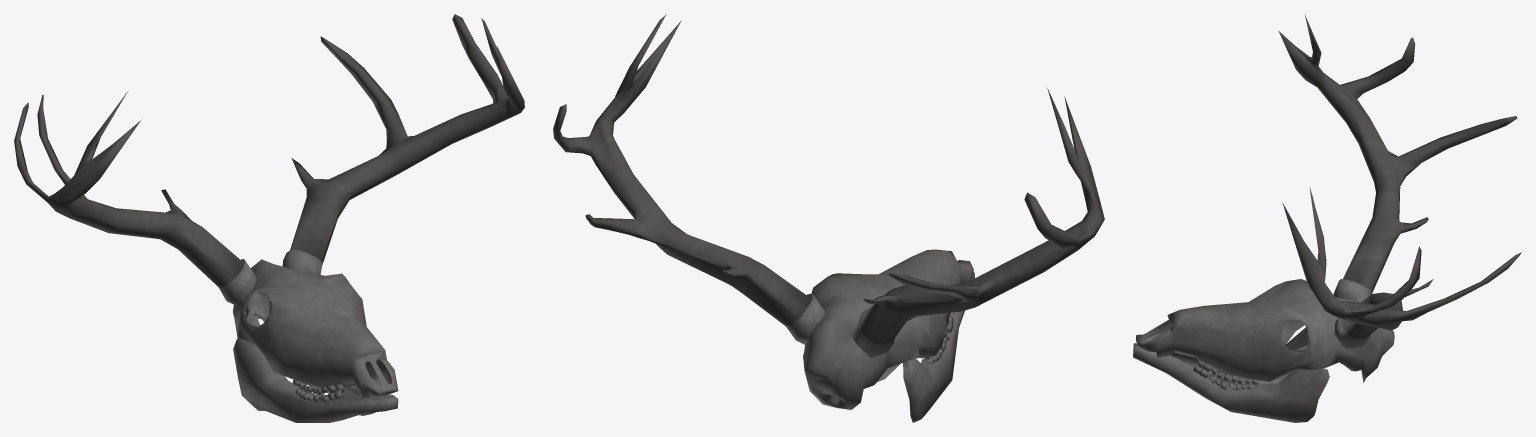
Rendered from WorldItem_DeerSkull.fbx.
3 views of the same model, side by side, from view 1: azimuth 30°, elevation 25°; view 2: azimuth 150°, elevation 25°; view 3: azimuth 270°, elevation 25° (orthographic). The views are drawn at different scales.
Parts seen in each view (by area): view 1: Antlers; view 2: Antlers; view 3: Antlers.
Boxes of the visible parts, x1,y1,x2,y2 form: Antlers: (14, 14, 524, 422); Antlers: (553, 14, 1104, 422); Antlers: (1133, 15, 1521, 422).
Bounding box in the file's own units: 0.6096 × 0.4246 × 0.4704.
